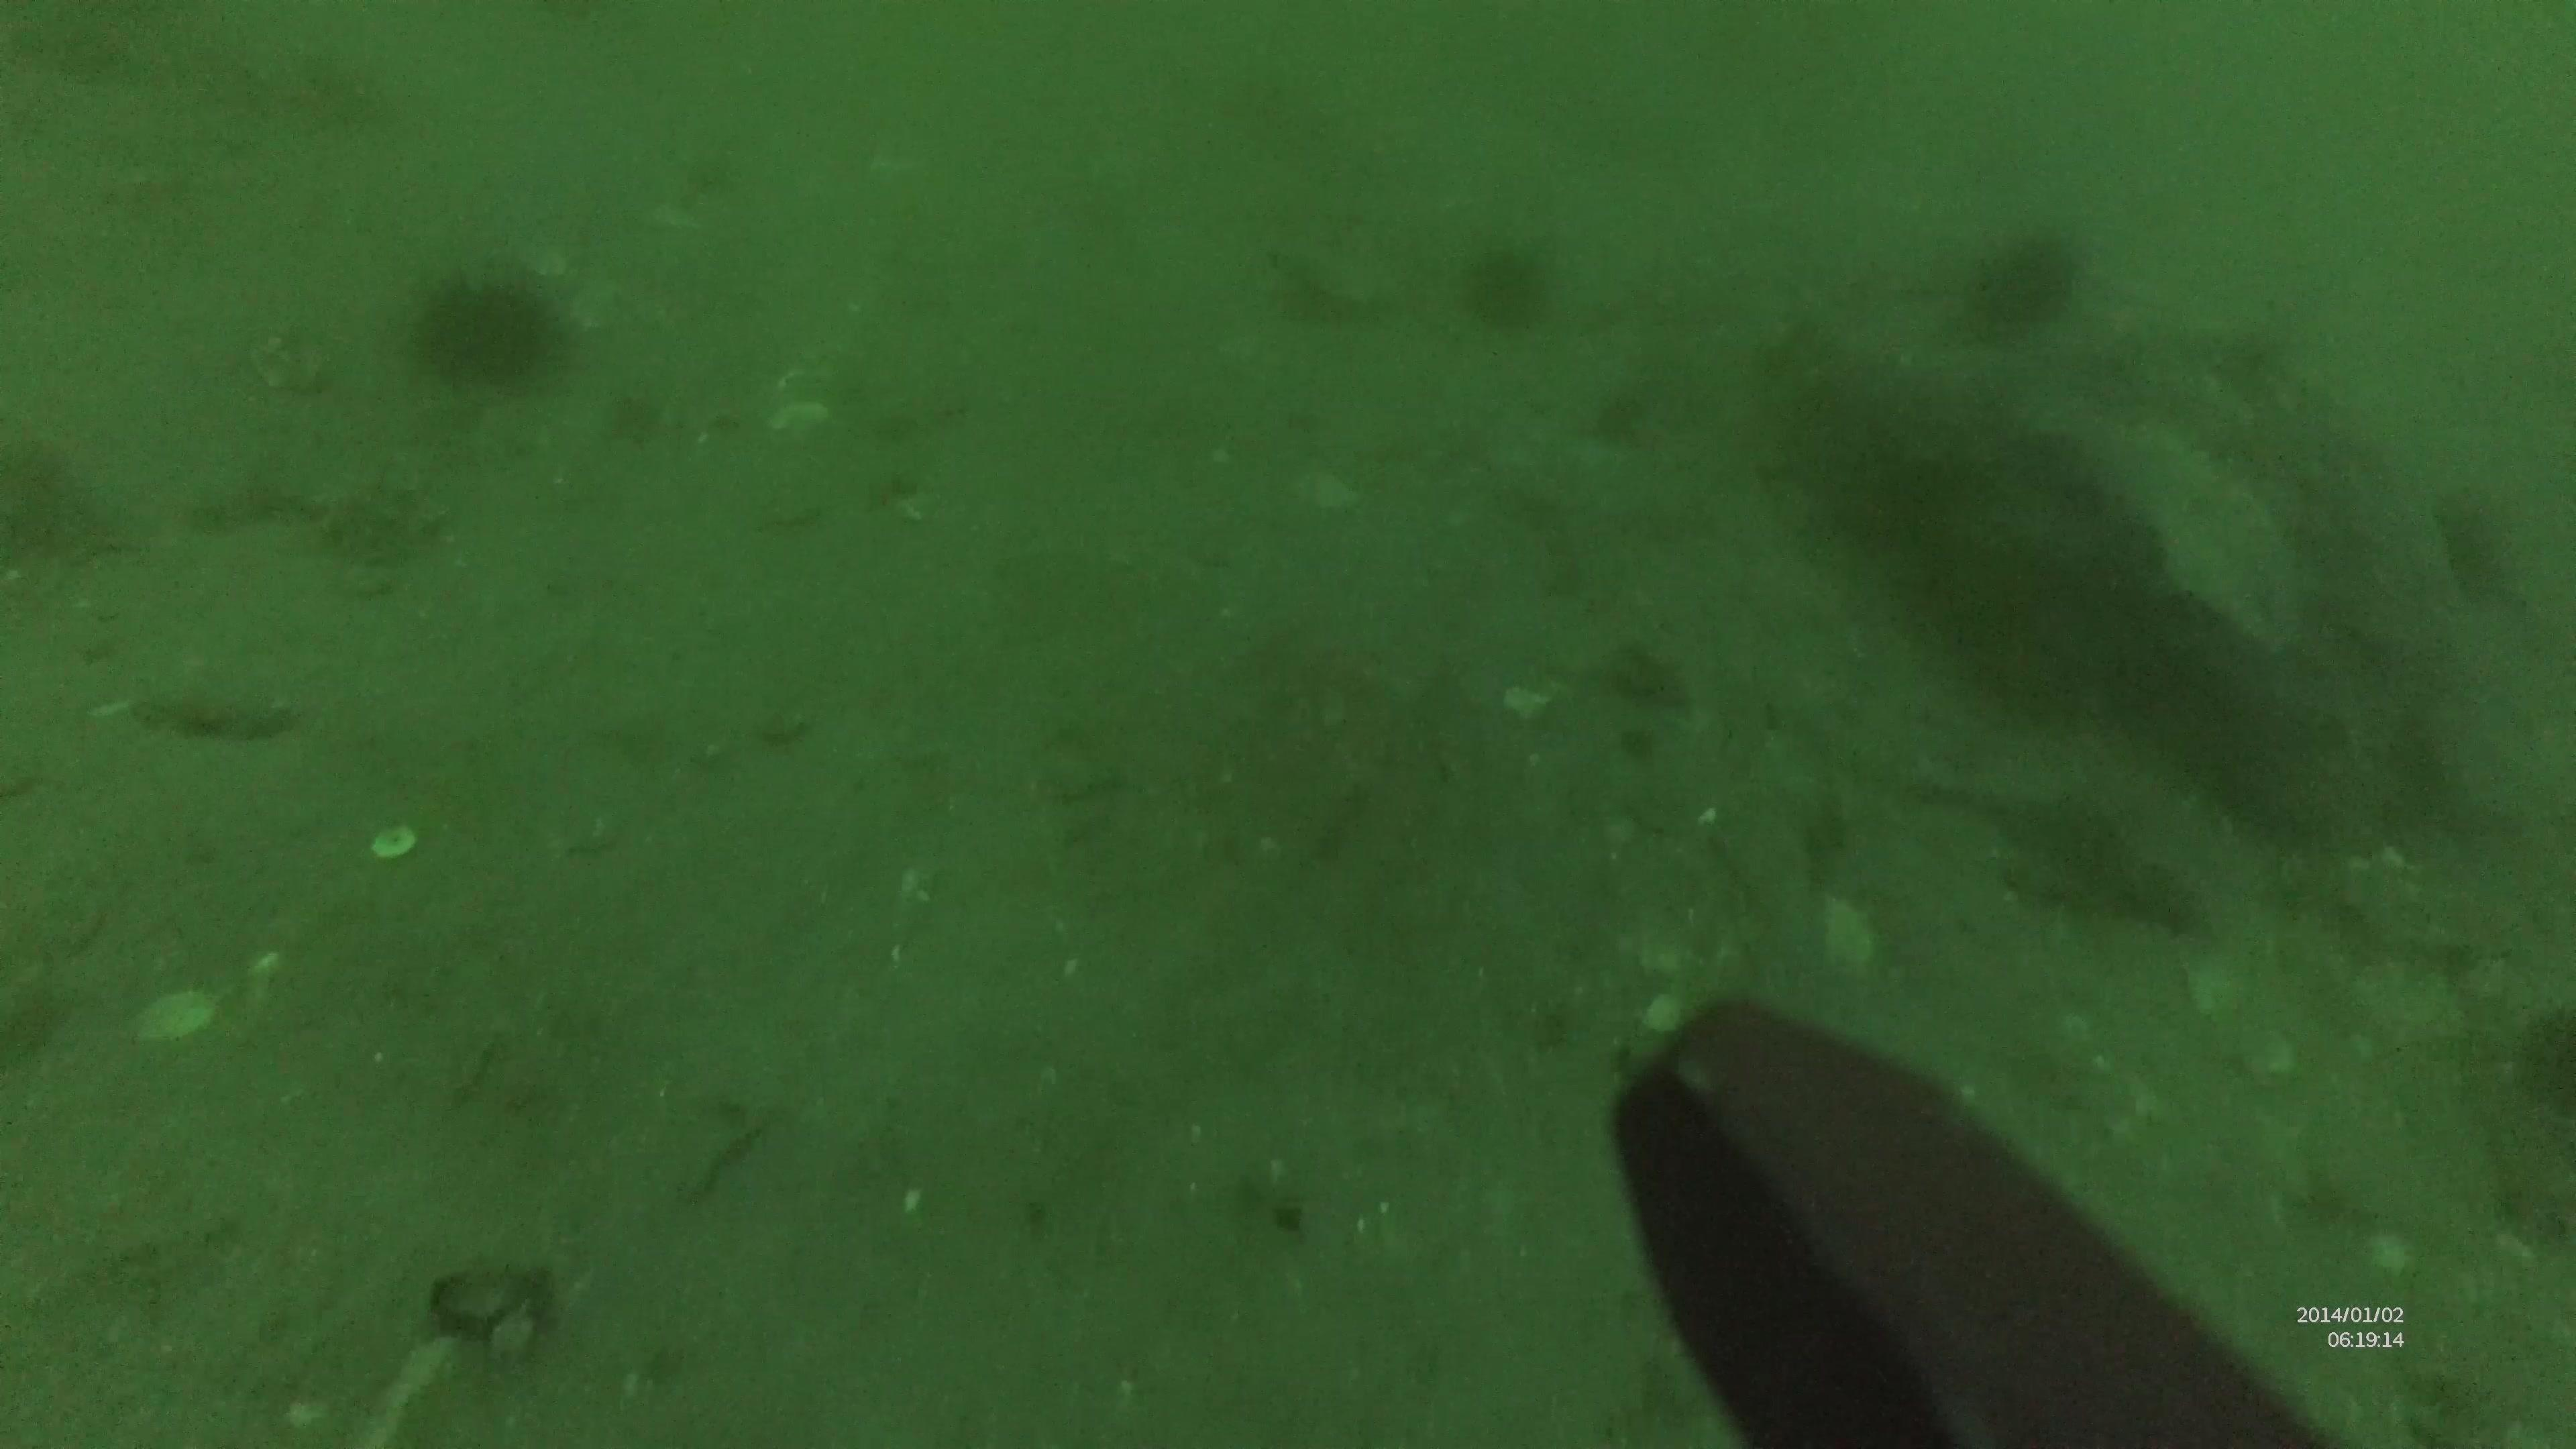echinus: (419, 262, 561, 398), (1959, 223, 2086, 341), (1465, 234, 1559, 333)
